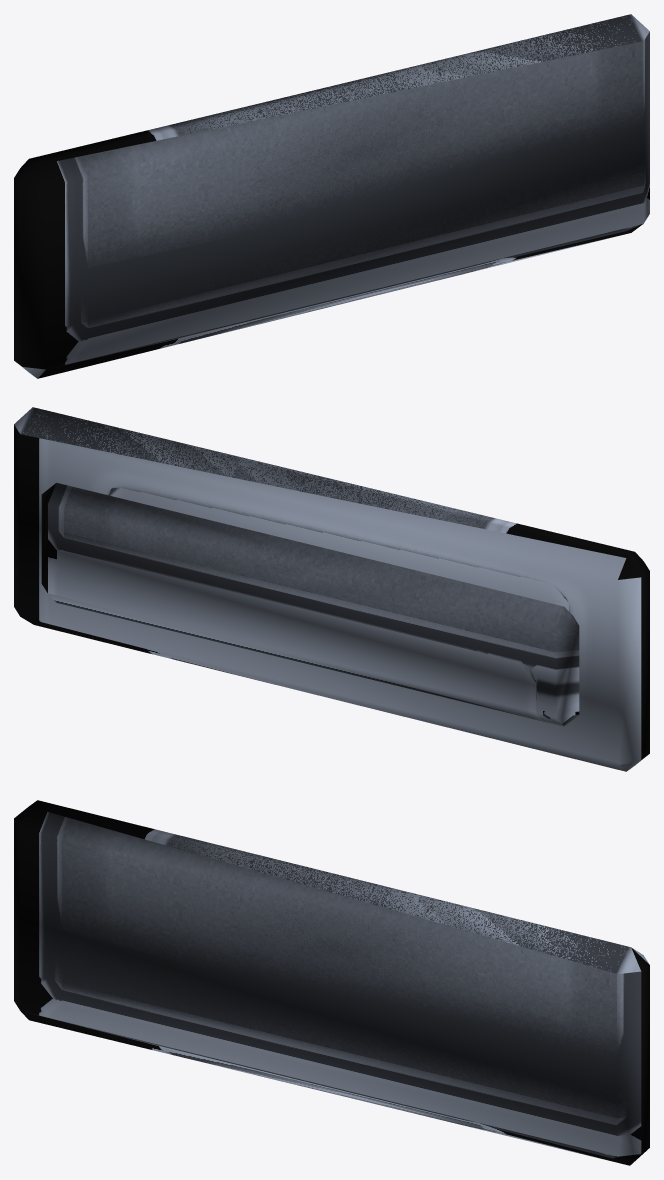
The model's file is Estela_AntebrazoDer_Acero.fbx.
3 views of the same model, one above another, from view 1: azimuth 30°, elevation 25°; view 2: azimuth 150°, elevation 25°; view 3: azimuth 330°, elevation 25° (orthographic).
Parts seen in each view (by area): view 1: Estela_AntebrazoDer_Acero; view 2: Estela_AntebrazoDer_Acero; view 3: Estela_AntebrazoDer_Acero.
Part boxes in pixels (x1,y1,x2,y2): Estela_AntebrazoDer_Acero: (14,14,649,378); Estela_AntebrazoDer_Acero: (14,407,649,771); Estela_AntebrazoDer_Acero: (14,800,649,1165).
Bounding box in the file's own units: 0.6006 × 0.1996 × 0.0714.
